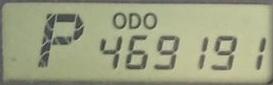1: (196, 35, 209, 70), (254, 36, 266, 70)
4: (98, 34, 122, 69)
6: (125, 34, 148, 70)
9: (210, 35, 237, 70), (153, 35, 180, 69)
X: (36, 11, 83, 70), (112, 11, 127, 29), (143, 11, 157, 29), (128, 12, 141, 29)
